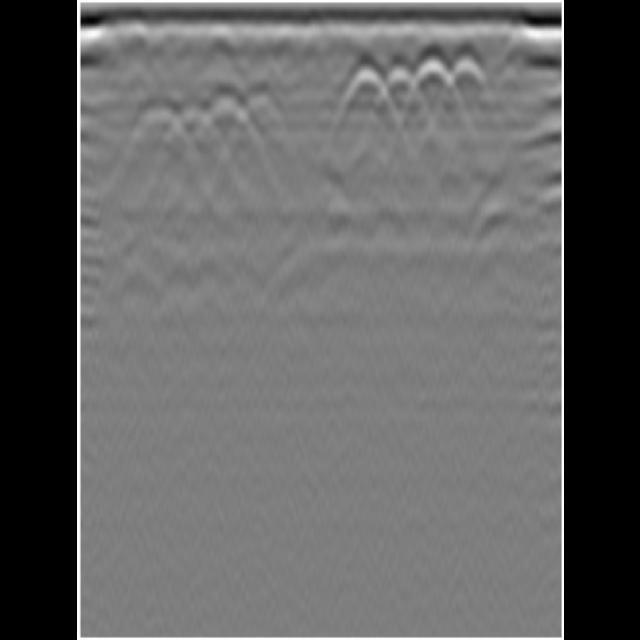hyperbola: (114, 102, 184, 168), (332, 61, 392, 129), (190, 88, 246, 160), (164, 109, 222, 171), (405, 50, 455, 120), (371, 58, 423, 124), (438, 52, 490, 116), (235, 90, 289, 148)
